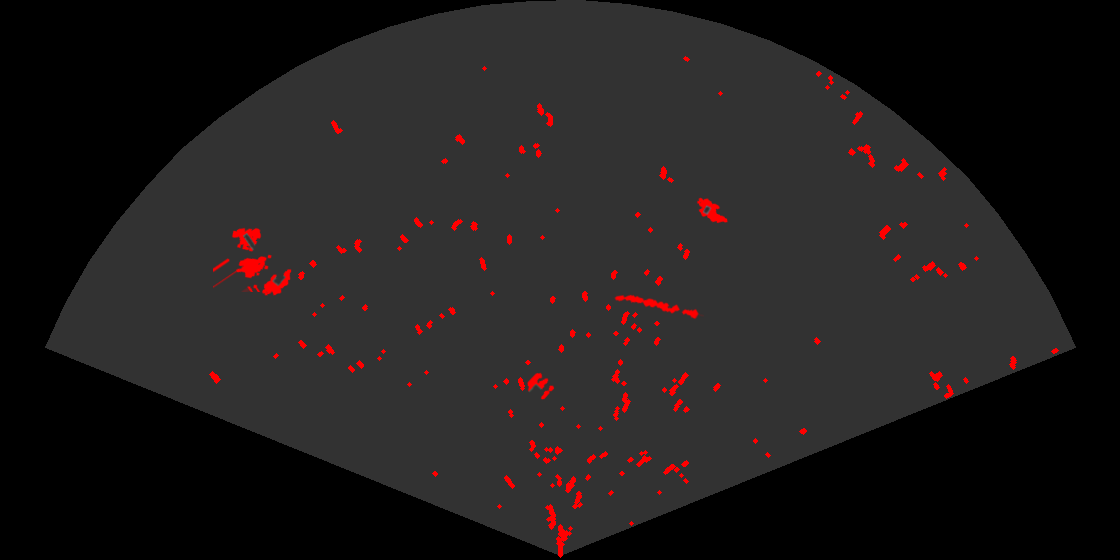AUV: (695, 196, 730, 225), (260, 267, 293, 297)
ball: (526, 371, 556, 401)
cage: (213, 226, 273, 292)
chain: (613, 293, 704, 321)
